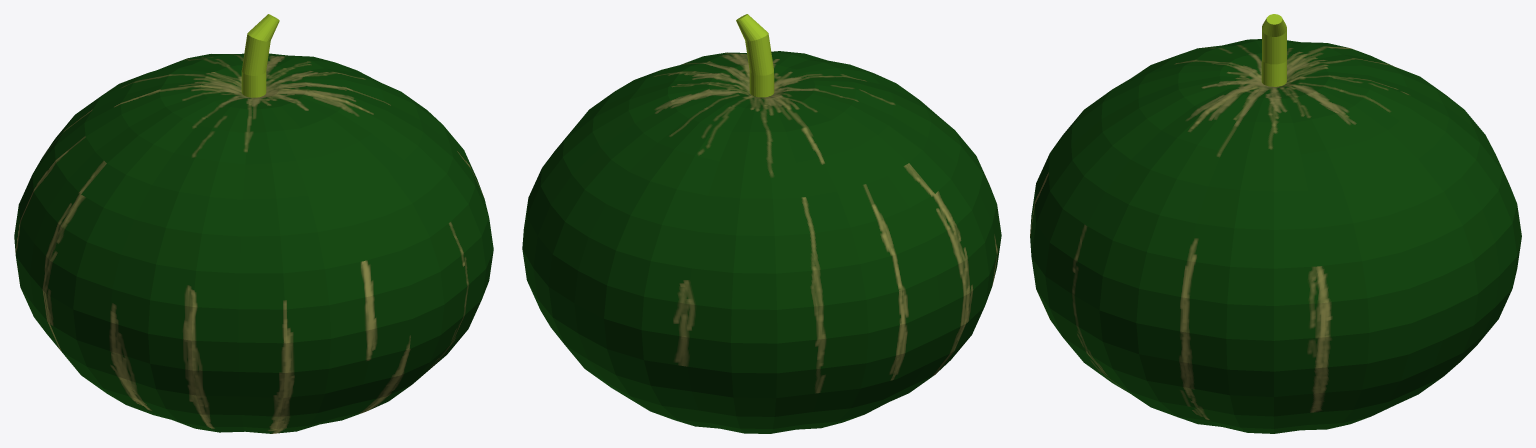
File: Pumpkin.fbx
3 renders of one model, left to right at view 1: azimuth 30°, elevation 25°; view 2: azimuth 150°, elevation 25°; view 3: azimuth 270°, elevation 25°, orthographic. The views are drawn at different scales.
Parts seen in each view (by area): view 1: Pumpkin; view 2: Pumpkin; view 3: Pumpkin.
Boxes of the visible parts, box(x1,y1,x2,y2) form: Pumpkin: box(14, 14, 493, 433); Pumpkin: box(522, 14, 1001, 433); Pumpkin: box(1030, 14, 1521, 433).
Size of the model in its own units: 192 by 169 by 190.
